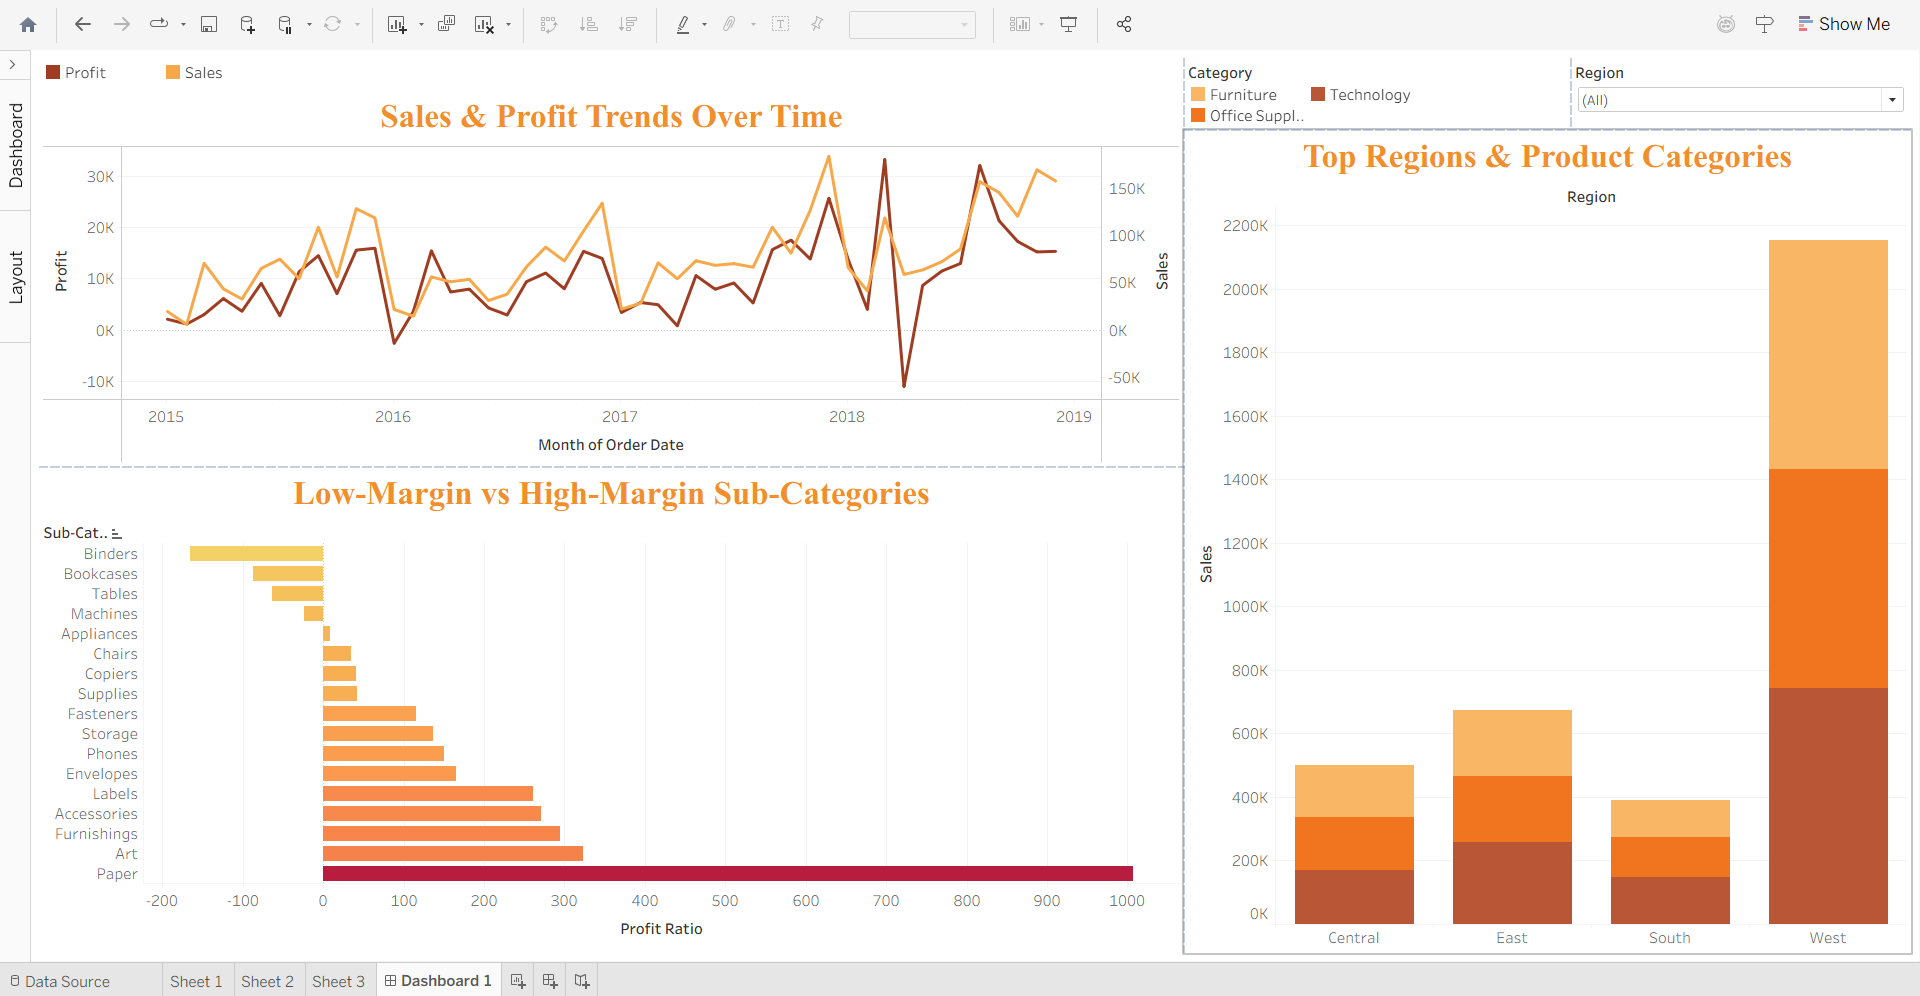

This screenshot's page, from the dashboard's own definition file:
{"tool":"tableau","page":{"name":"Dashboard 1","canvas":[1000,1000],"units":"permille","ordinal":0},"visuals":[{"type":"legend","title":"Sheet 1","param":"[federated.1efx3ci0xdkz8n1bz92ae1lpuii8].[:Measure Names]","box":[4.8,8.8,605.9,35.1]},{"type":"legend","title":"Sheet 2","param":"[federated.1efx3ci0xdkz8n1bz92ae1lpuii8].[none:Category:nk]","box":[610.7,8.8,204.6,79]},{"type":"filter","title":"Sheet 1","param":"[federated.1efx3ci0xdkz8n1bz92ae1lpuii8].[none:Region:nk]","box":[815.3,8.8,179.9,79]},{"type":"worksheet","title":"Sheet 1","mark":"Automatic","rows":["Profit","Sales"],"cols":["Order Date"],"box":[4.8,43.9,605.9,413.8]},{"type":"worksheet","title":"Sheet 2","mark":"Automatic","rows":["Sales"],"cols":["Region"],"box":[610.7,87.8,384.5,903.4]},{"type":"worksheet","title":"Sheet 3","mark":"Automatic","rows":["Sub-Category"],"cols":["Calculation_442760193929277440"],"box":[4.8,457.7,605.9,533.5]}]}

Visuals, with their boxes on the dashboard's canvas, which has no fixed pixel size, in thousandths of its width and height (x1, y1, x2, y2). These are canvas units, not pixel positions in the 1920x996 screenshot, which may show the page scaled, cropped or inside an application window:
"Sheet 1" legend: 5 9 611 44
"Sheet 2" legend: 611 9 815 88
"Sheet 1" filter: 815 9 995 88
"Sheet 1" worksheet: 5 44 611 458
"Sheet 2" worksheet: 611 88 995 991
"Sheet 3" worksheet: 5 458 611 991
